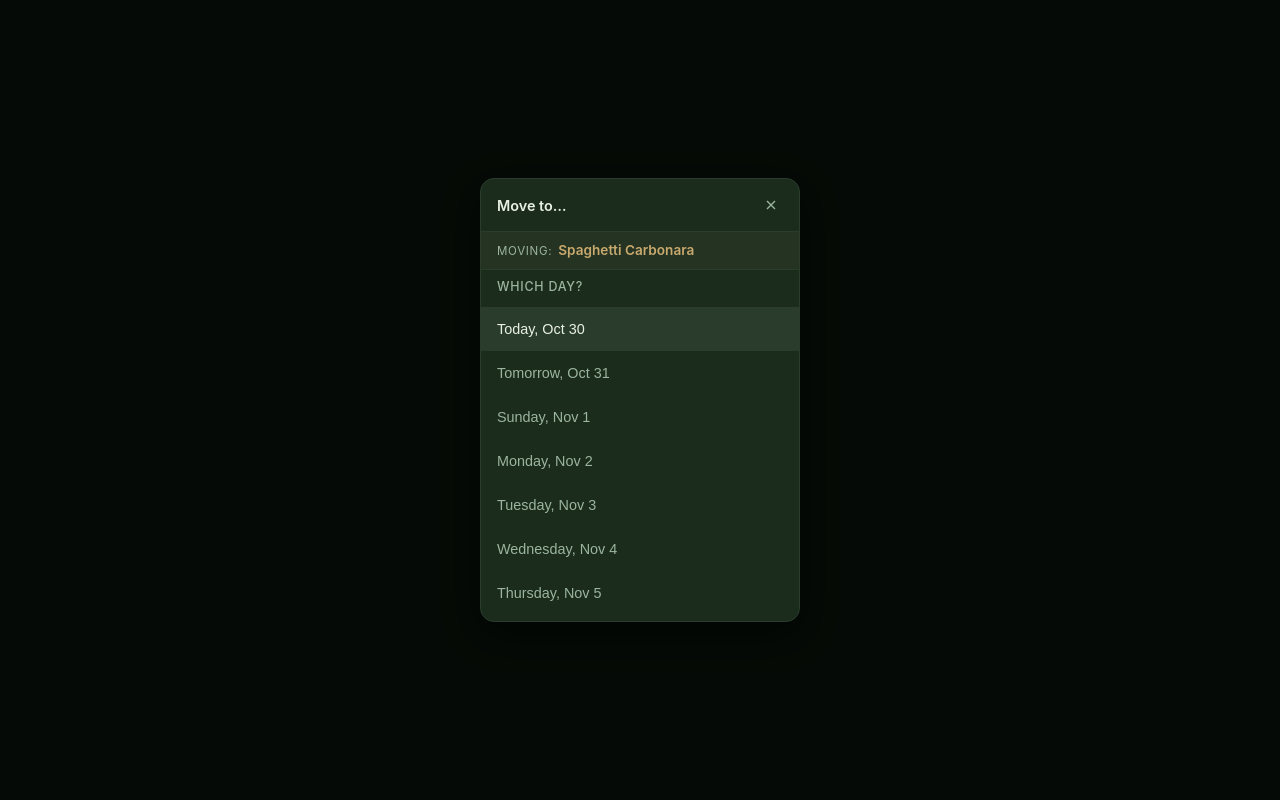
Test: MoveMealModal — Back button › Escape in Step 2 goes back to Step 1, not close
The width and height of the screenshot is (1280, 800).
Click the button with aria-label "Move to Today" at (541, 329), box [481,306,799,350]
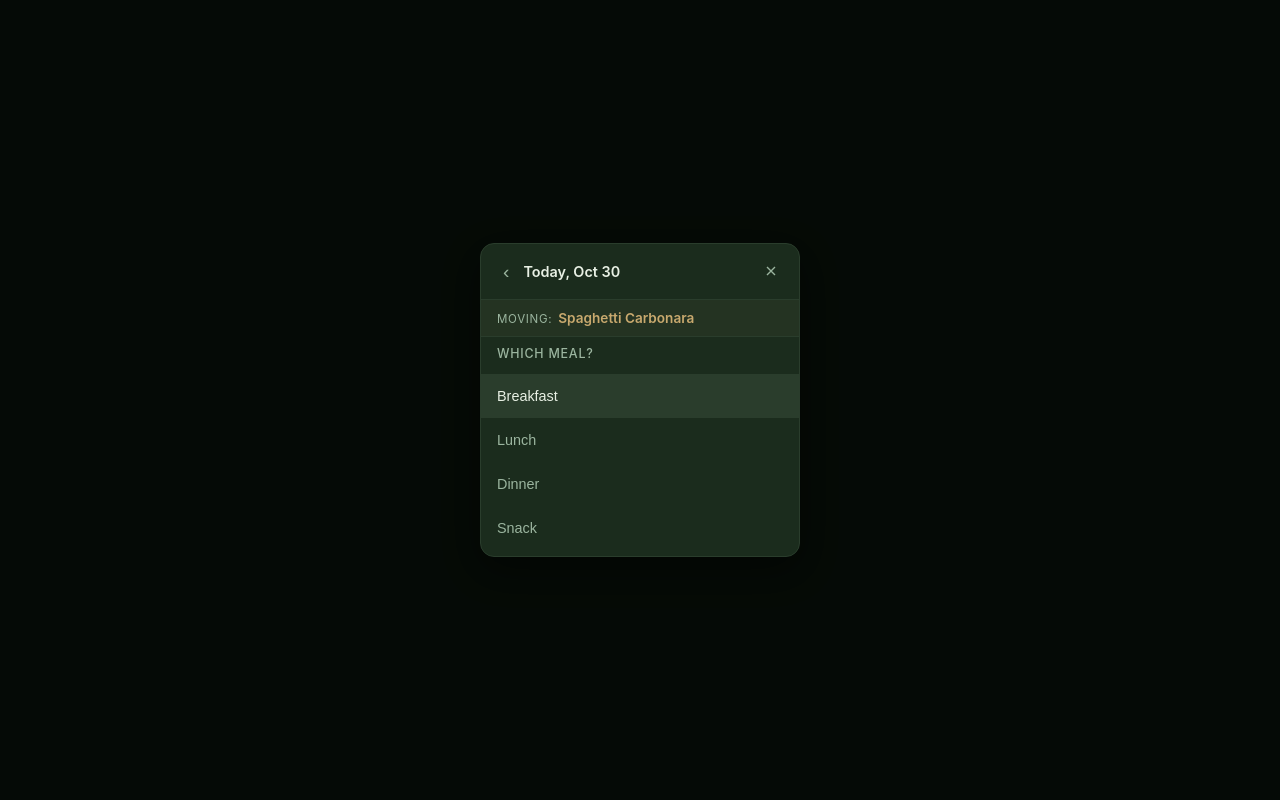
Press Escape
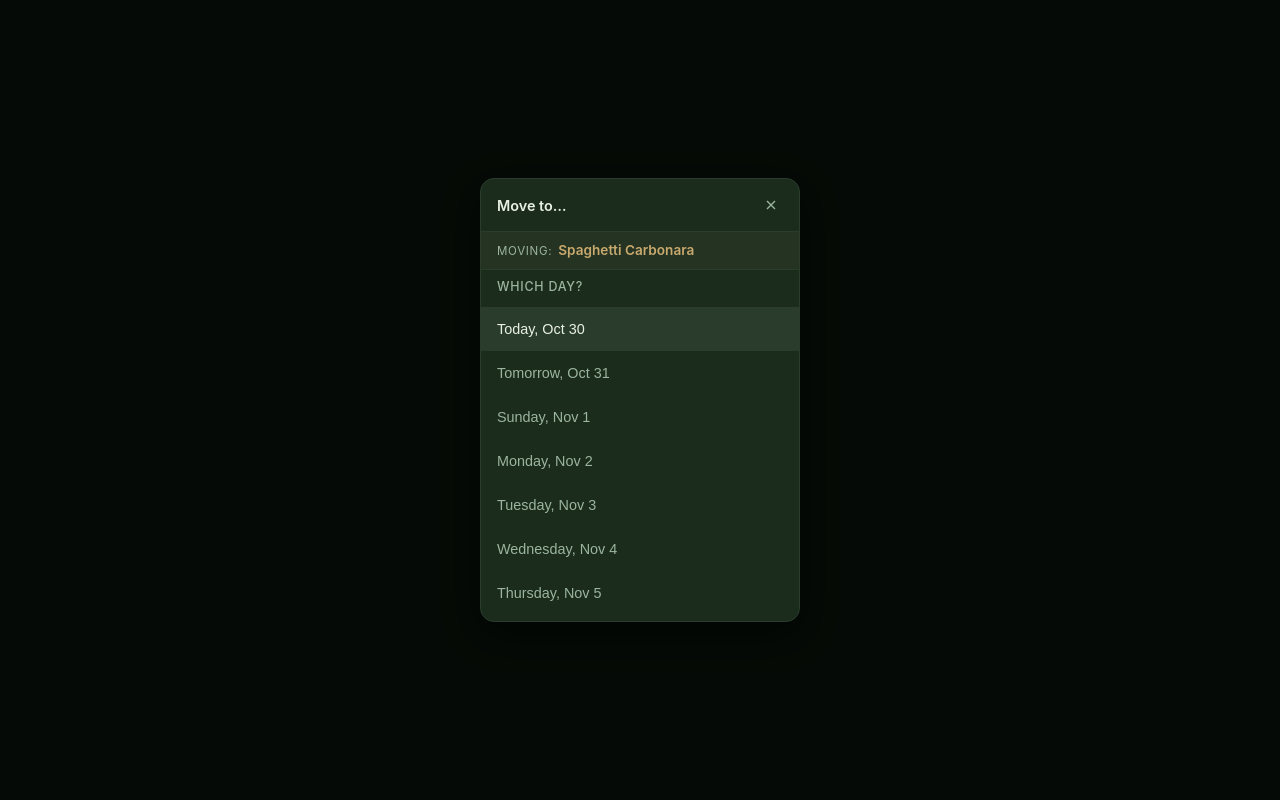
Expected: the text "Which day?" is shown, [497,279,583,294]
